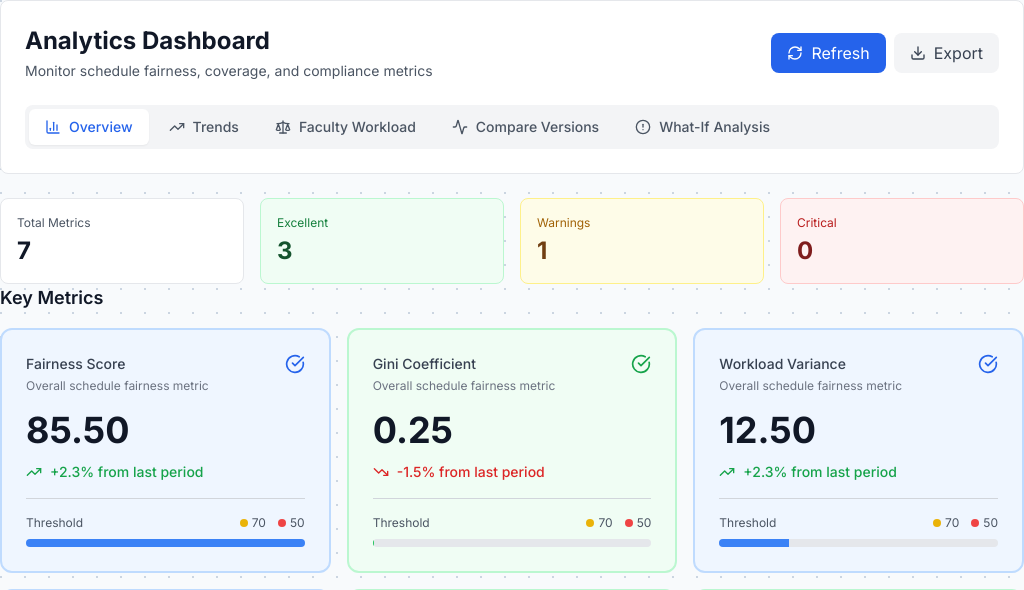
Test: AnalyticsDashboard › View Content Rendering › should show comparison content when comparison tab selected
Expected: the text "Compare Versions" is shown, [476, 117, 599, 137]
What coordinates should you click on to do the following:
click the tab "Compare Versions"
I would click on:
 (525, 127)
Its box is [436, 109, 615, 145].
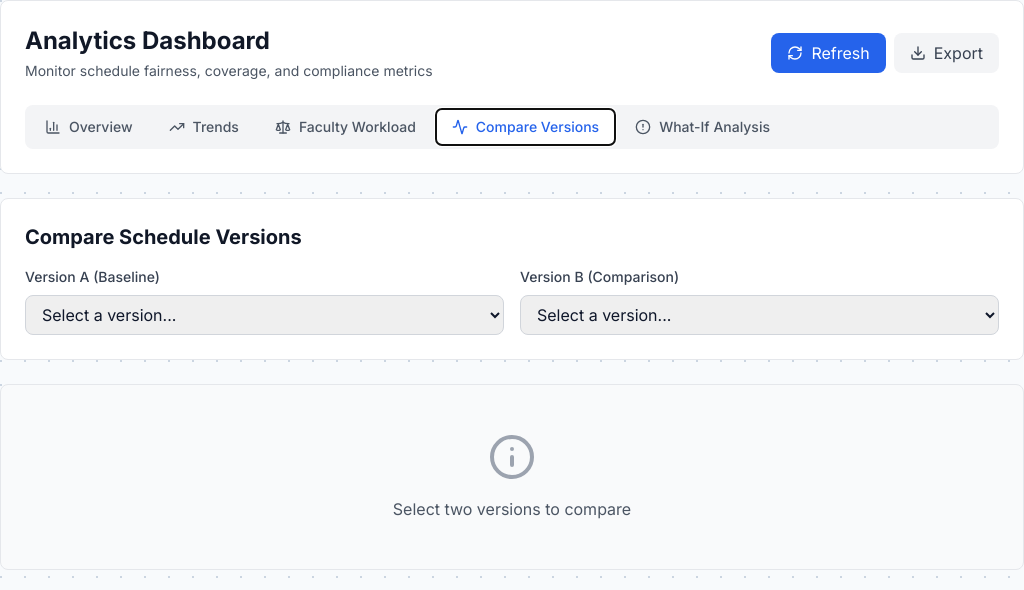
Now the heading "Compare Schedule Versions" is shown, box [25, 225, 302, 249]
